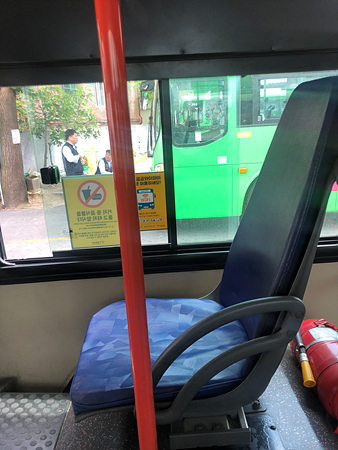seat: (74, 78, 335, 419)
